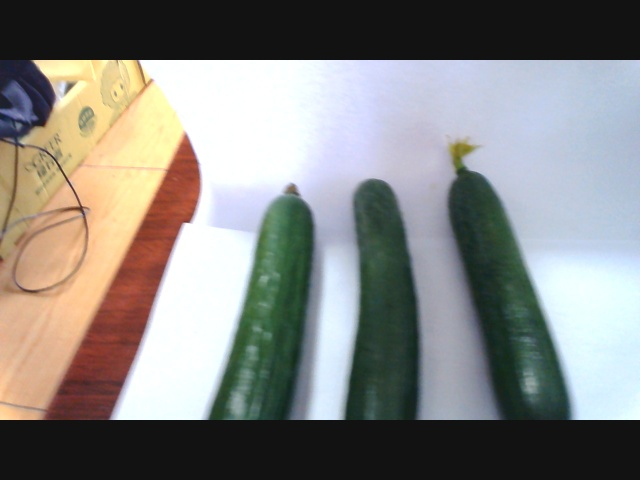cucumber: (434, 141, 585, 419), (211, 182, 327, 421), (335, 168, 428, 420)
